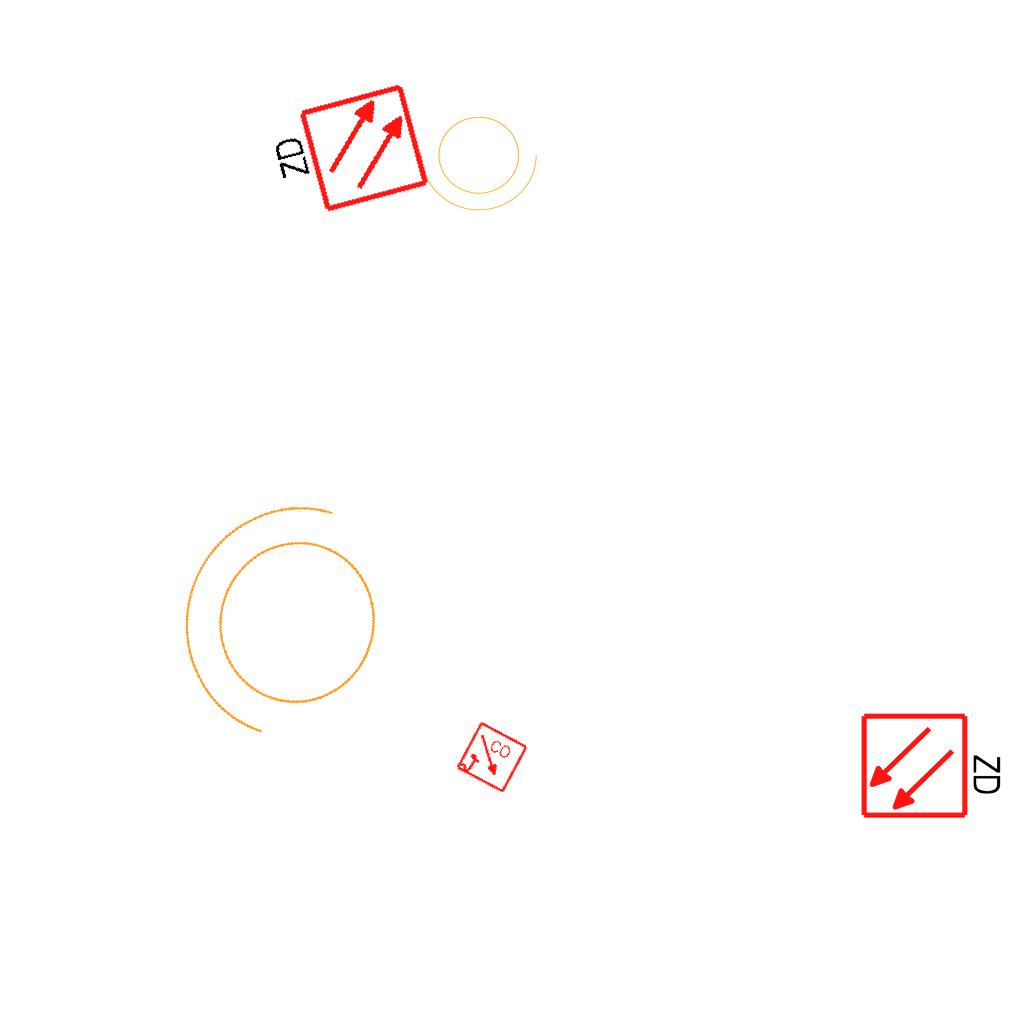ROA_Rauchmelder_optisch_mit_Signalgeber_(Sockelsirene): (454, 720, 530, 796)
Scheinwerfer_fuer_Alarmbeleuchtung: (138, 465, 434, 786), (416, 104, 548, 216)
ZD_Melder_in_Zwischendecke_mit_Revisionsoeffnung_mind_40_x_40_cm: (259, 80, 433, 229), (859, 707, 1008, 821)
